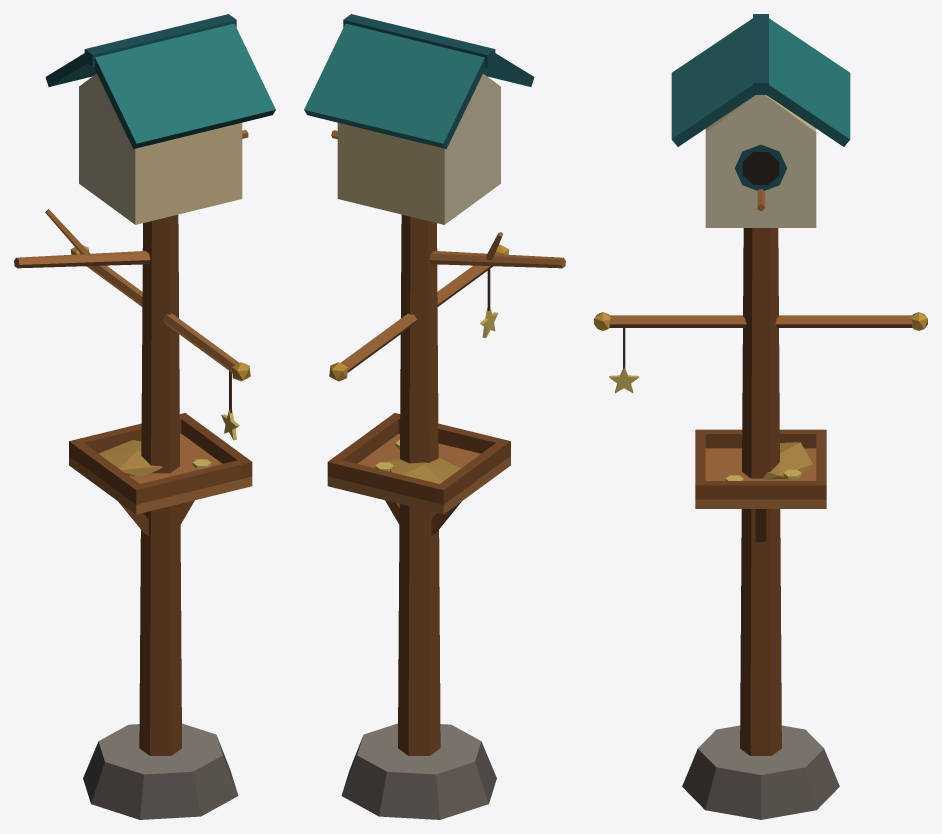
The model's file is magpie_house.glb.
3 renders of one model, left to right at view 1: azimuth 30°, elevation 25°; view 2: azimuth 150°, elevation 25°; view 3: azimuth 270°, elevation 25°, orthographic.
Parts seen in each view (by area): view 1: magpie_house; view 2: magpie_house; view 3: magpie_house.
Part boxes in pixels (x1,y1,x2,y2): magpie_house: (14,14,275,819); magpie_house: (304,14,565,819); magpie_house: (594,14,927,819).
Bounding box in the file's own units: 0.9933 × 3.1 × 1.27.
